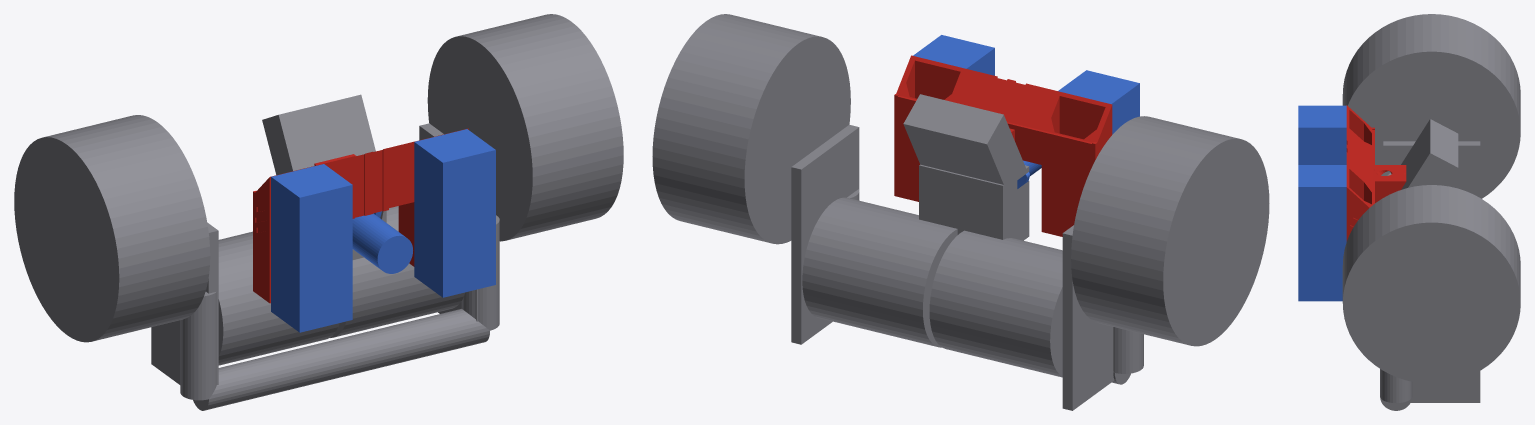
The model's file is rear_assembly_r6.obj.
The picture shows the model from 3 angles, left to right: view 1: azimuth 30°, elevation 25°; view 2: azimuth 150°, elevation 25°; view 3: azimuth 270°, elevation 25°; orthographic projection. The views are drawn at different scales.
Visible parts, largest first — view 1: wheels_schematic, bar_c_schematic, light_placeholder_0, light_placeholder_1, motors_schematic, rear_hanger_schematic, rear_mount, charging_plug_column; view 2: wheels_schematic, motors_schematic, rear_hanger_schematic, rear_mount, light_placeholder_1, light_placeholder_0, bar_c_schematic; view 3: wheels_schematic, light_placeholder_0, rear_hanger_schematic, rear_mount, light_placeholder_1, bar_c_schematic.
Part boxes in pixels (x1=…): wheels_schematic: x1=14, y1=14, x2=623, y2=342; bar_c_schematic: x1=180, y1=215, x2=499, y2=410; light_placeholder_0: x1=414, y1=129, x2=495, y2=297; light_placeholder_1: x1=271, y1=164, x2=352, y2=332; motors_schematic: x1=218, y1=206, x2=465, y2=365; rear_hanger_schematic: x1=151, y1=94, x2=478, y2=384; rear_mount: x1=253, y1=128, x2=468, y2=303; charging_plug_column: x1=352, y1=213, x2=412, y2=273; wheels_schematic: x1=652, y1=14, x2=1269, y2=346; motors_schematic: x1=802, y1=197, x2=1062, y2=377; rear_hanger_schematic: x1=791, y1=94, x2=1114, y2=410; rear_mount: x1=894, y1=55, x2=1112, y2=236; light_placeholder_1: x1=1058, y1=70, x2=1139, y2=134; light_placeholder_0: x1=913, y1=35, x2=994, y2=75; bar_c_schematic: x1=847, y1=189, x2=1143, y2=384; wheels_schematic: x1=1342, y1=14, x2=1520, y2=383; light_placeholder_0: x1=1298, y1=165, x2=1346, y2=301; rear_hanger_schematic: x1=1383, y1=119, x2=1480, y2=402; rear_mount: x1=1346, y1=105, x2=1406, y2=241; light_placeholder_1: x1=1298, y1=105, x2=1346, y2=164; bar_c_schematic: x1=1380, y1=369, x2=1412, y2=410.
Size of the model in its own units: 305 by 160 by 138.
